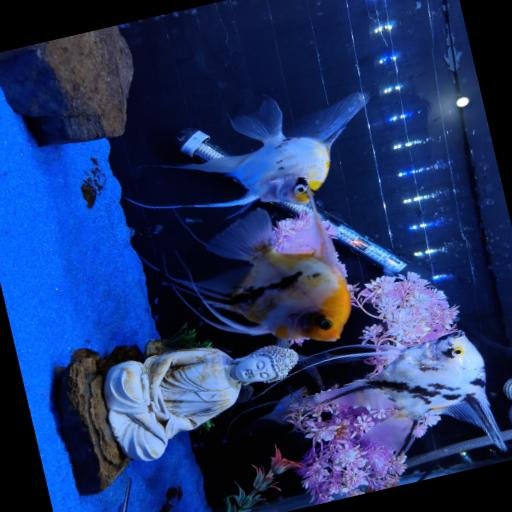Fish: (128, 93, 367, 208), (296, 331, 505, 454), (165, 208, 350, 341)
